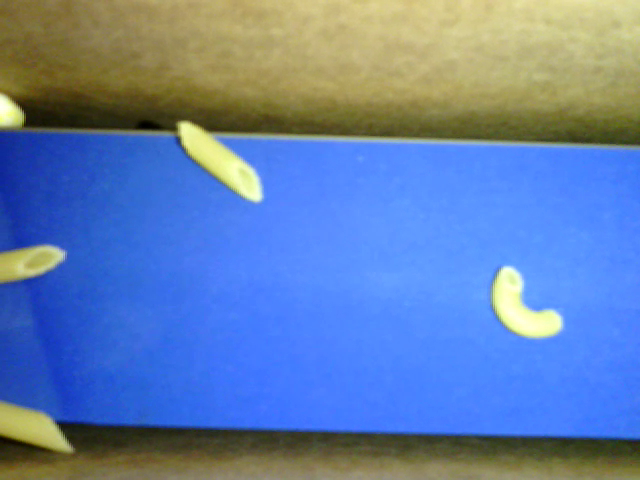elbow: (491, 265, 561, 339)
penne: (177, 120, 264, 203), (1, 401, 74, 453), (1, 245, 68, 282)
